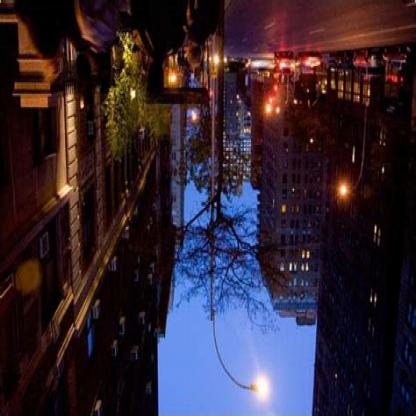Streetlights 1: (195, 20, 294, 406)
